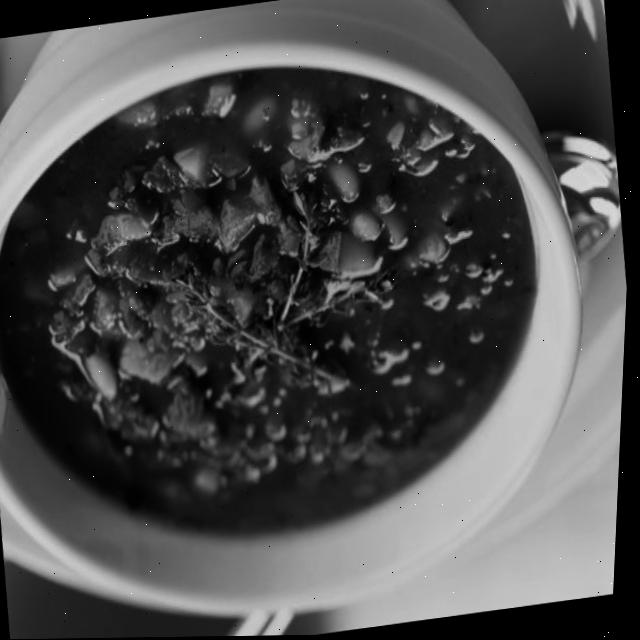汤锅炖物: (0, 0, 620, 631)
